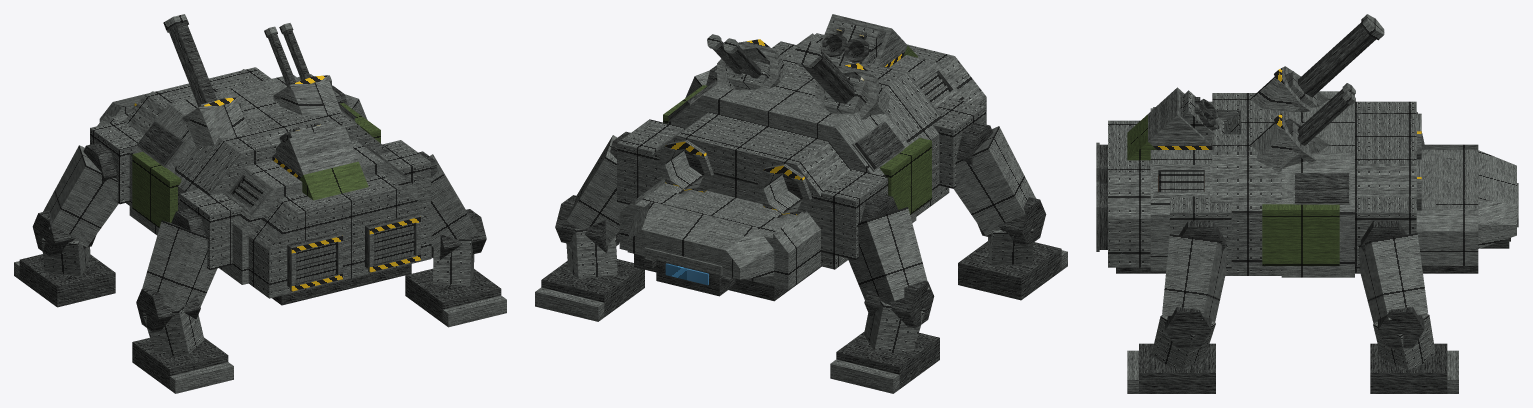
Rendered from polar_bear.glb.
3 renders of one model, left to right at view 1: azimuth 30°, elevation 25°; view 2: azimuth 150°, elevation 25°; view 3: azimuth 270°, elevation 25°, orthographic. The views are drawn at different scales.
Visible parts, largest first — view 1: band, band.002, thigh.002, thigh, band.001, band.003, foot, hatch_frame, ablative, hip_cuff.002, foot.003, band.004 (+29 smaller); view 2: band.004, band.003, band.005, cowl, thigh.002, thigh, band.002, foot.002, hip_cuff, thigh.001, foot.001, foot (+33 smaller); view 3: band.002, band.005, band.004, band, band.003, ablative.001, thigh.001, thigh.003, cowl, foot.001, foot.003, band.001 (+26 smaller).
Part boxes in pixels (x1,y1,x2,y2): band: (248, 173, 431, 298); band.002: (174, 108, 390, 210); thigh.002: (140, 220, 217, 309); thigh: (43, 145, 129, 247); band.001: (219, 140, 417, 284); band.003: (129, 75, 360, 235); foot: (19, 254, 115, 307); hatch_frame: (272, 125, 358, 179); ablative: (132, 151, 181, 227); hip_cuff.002: (180, 189, 242, 269); foot.003: (405, 268, 501, 322); band.004: (124, 67, 271, 205); band.004: (638, 112, 851, 269); band.003: (667, 77, 916, 222); band.005: (619, 170, 820, 289); cowl: (627, 201, 774, 279); thigh.002: (954, 126, 1035, 235); thigh: (847, 207, 929, 303); band.002: (756, 41, 949, 216); foot.002: (958, 241, 1061, 300); hip_cuff: (821, 169, 888, 259); thigh.001: (566, 135, 628, 245); foot.001: (541, 259, 644, 317); foot: (836, 331, 939, 388); band.002: (1212, 93, 1285, 275); band.005: (1416, 144, 1478, 265); band.004: (1355, 108, 1416, 272); band: (1108, 120, 1150, 267); band.003: (1281, 91, 1354, 277); ablative.001: (1262, 204, 1339, 265); thigh.001: (1354, 233, 1427, 323); thigh.003: (1162, 234, 1226, 322); cowl: (1478, 150, 1516, 248); foot.001: (1370, 343, 1447, 393); foot.003: (1139, 343, 1215, 393); band.001: (1150, 108, 1212, 270).
Bounding box in the file's own units: 103 × 77.59 × 110.
10 materials, 10 textured.
